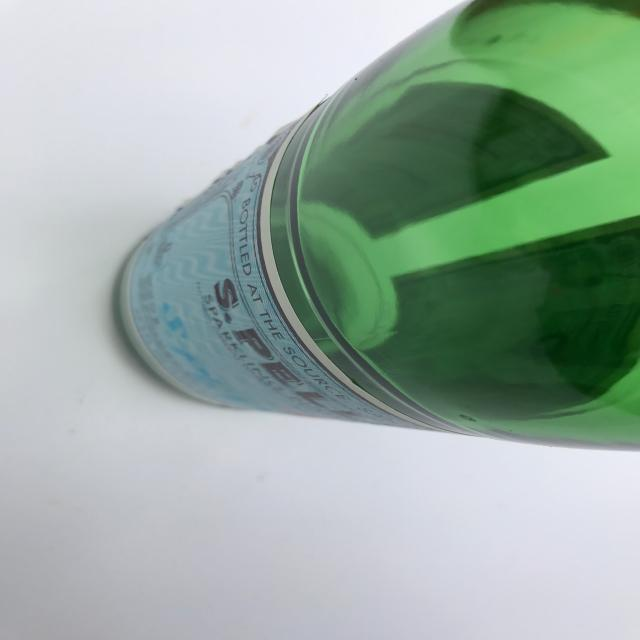glass: (114, 1, 640, 454)
